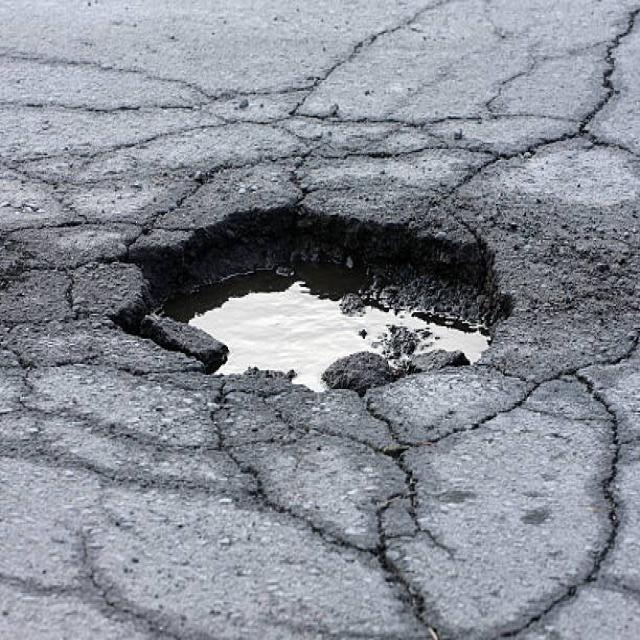Pothole: (162, 262, 489, 391), (162, 264, 489, 391)
